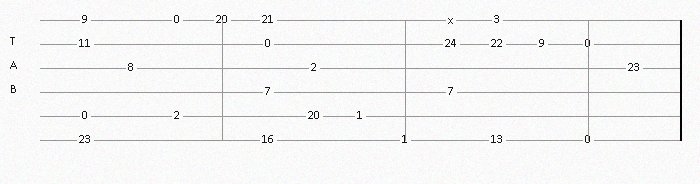0: (82, 110, 92, 122), (174, 14, 184, 26), (265, 38, 275, 50), (585, 38, 595, 50), (585, 134, 595, 146)
1: (357, 110, 367, 122), (402, 134, 412, 146)
11: (79, 38, 95, 50)
13: (491, 134, 507, 146)
16: (262, 134, 278, 146)
2: (174, 110, 184, 122), (311, 62, 321, 74)
20: (216, 14, 232, 26), (308, 110, 324, 122)
21: (262, 14, 278, 26)
22: (491, 38, 507, 50)
23: (79, 134, 95, 146), (628, 62, 644, 74)
24: (445, 38, 461, 50)
3: (494, 14, 504, 26)
7: (265, 86, 275, 98), (448, 86, 458, 98)
8: (128, 62, 138, 74)
9: (82, 14, 92, 26), (539, 38, 549, 50)
x: (448, 15, 457, 25)
